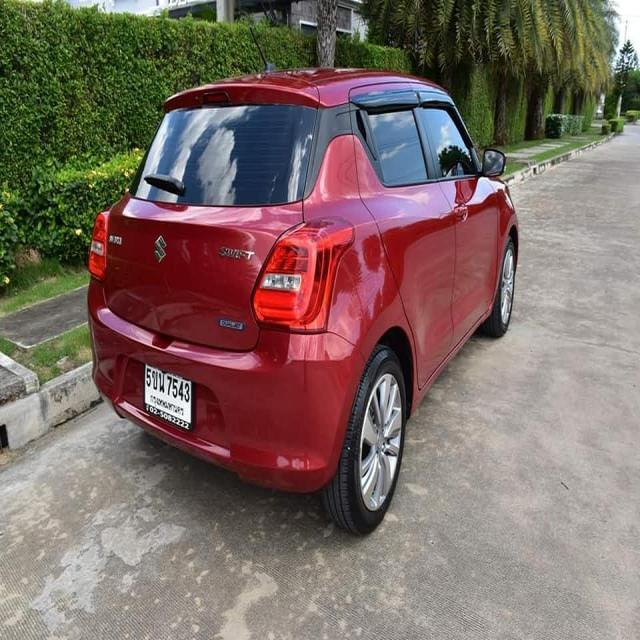Hatchback: (86, 70, 520, 539)
